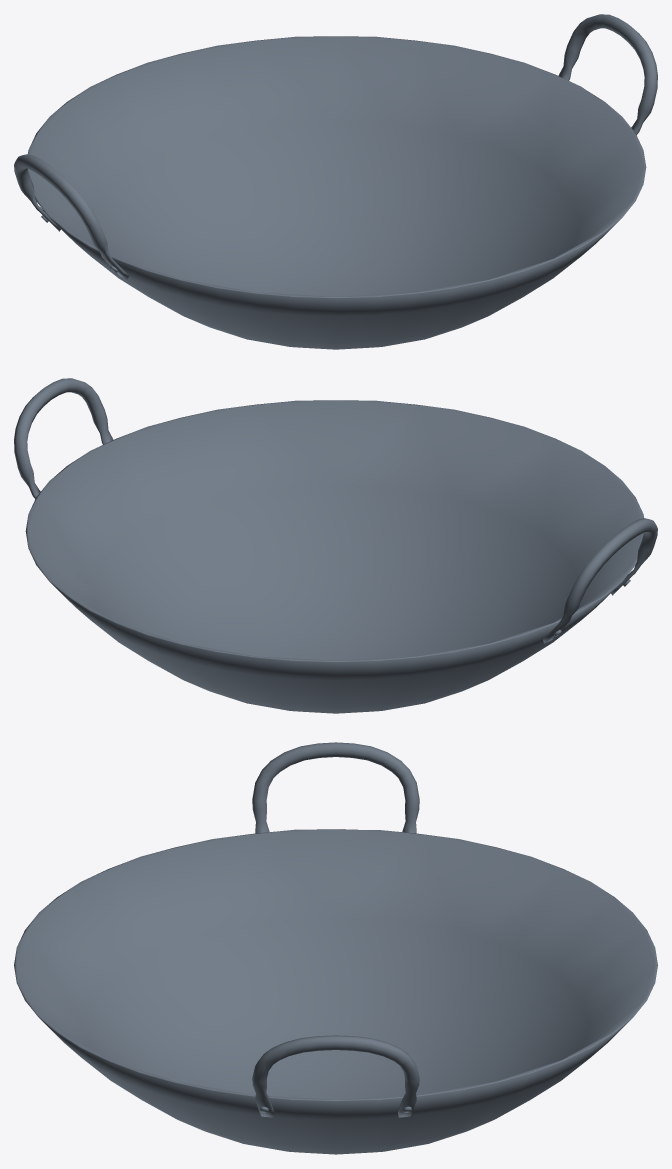
Rendered from Prop_Wok.fbx.
3 renders of one model, top to bottom at view 1: azimuth 30°, elevation 25°; view 2: azimuth 150°, elevation 25°; view 3: azimuth 270°, elevation 25°, orthographic. The views are drawn at different scales.
Visible parts, largest first — view 1: Wok; view 2: Wok; view 3: Wok.
Boxes of the visible parts, left/top/right/bottom form: Wok: left=14, top=14, right=657, bottom=349; Wok: left=14, top=378, right=657, bottom=713; Wok: left=14, top=742, right=657, bottom=1154.
Bounding box in the file's own units: 43.75 × 15.44 × 39.85.
